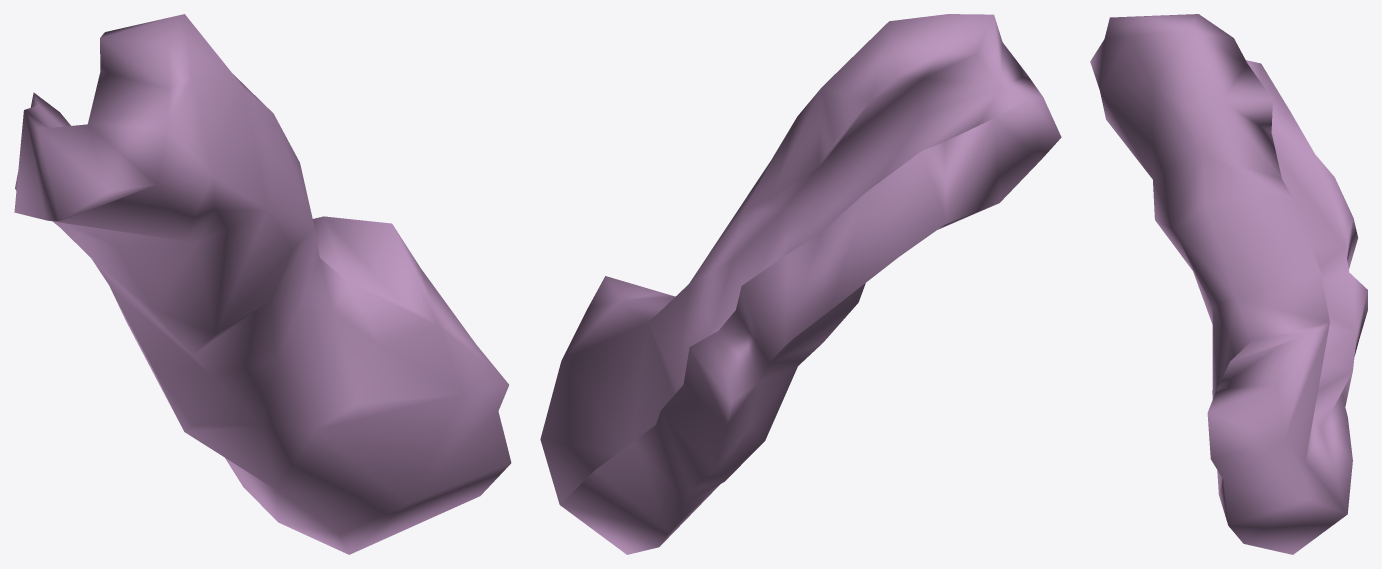
The picture shows the model from 3 angles, left to right: view 1: azimuth 30°, elevation 25°; view 2: azimuth 150°, elevation 25°; view 3: azimuth 270°, elevation 25°; orthographic projection. The views are drawn at different scales.
Parts seen in each view (by area): view 1: 左侧颞横回; view 2: 左侧颞横回; view 3: 左侧颞横回.
Part boxes in pixels (x1,y1,x2,y2): 左侧颞横回: [14, 14, 511, 554]; 左侧颞横回: [540, 14, 1061, 554]; 左侧颞横回: [1090, 14, 1367, 554].
Size of the model in its own units: 0.0314 by 0.0375 by 0.0212.
